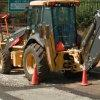Tractor: (10, 2, 86, 87)
